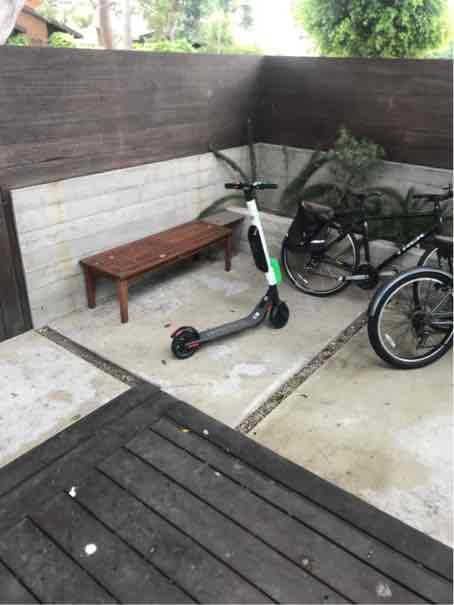scooter: (168, 170, 293, 361)
